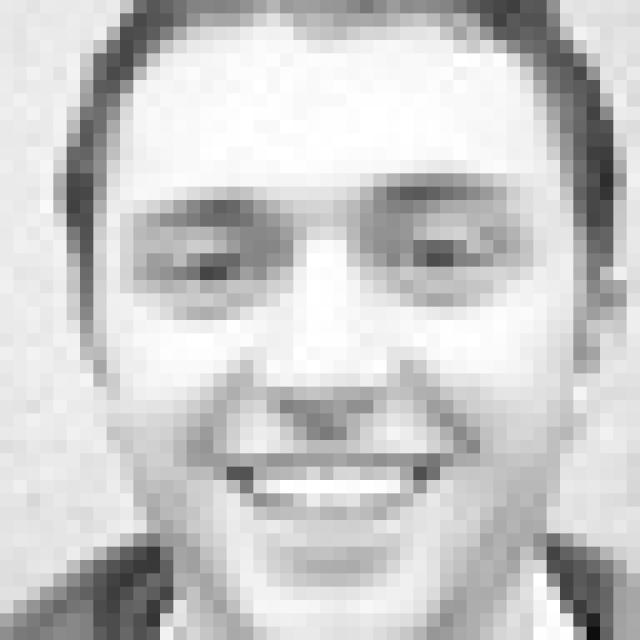happy: (125, 164, 552, 586)
